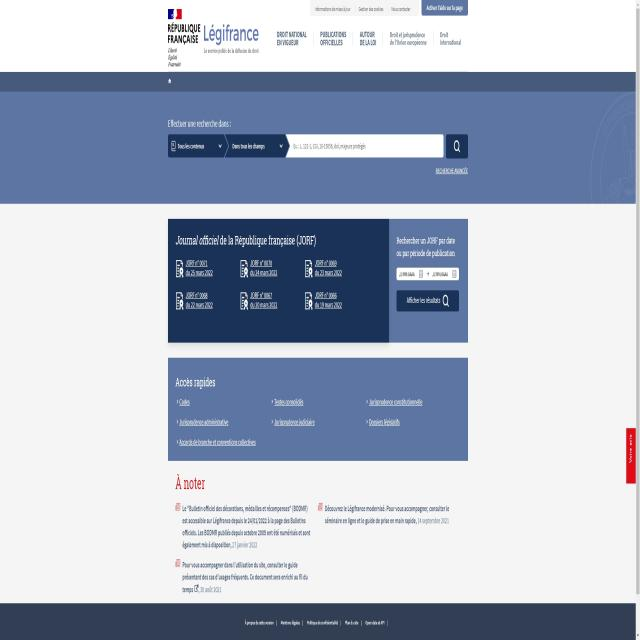search: (288, 127, 471, 161)
tab-bar: (269, 25, 473, 64)
